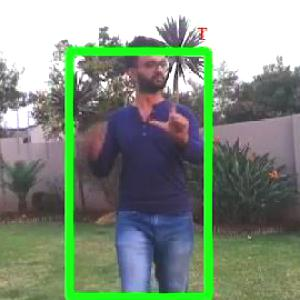land_hand: (143, 93, 198, 149)
